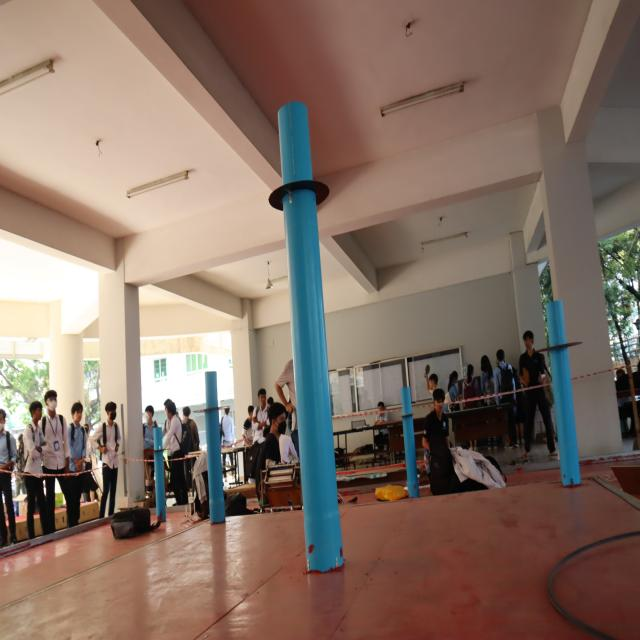pole: (258, 99, 335, 248), (532, 300, 586, 386), (195, 365, 227, 441), (395, 380, 416, 429), (149, 427, 171, 462)
